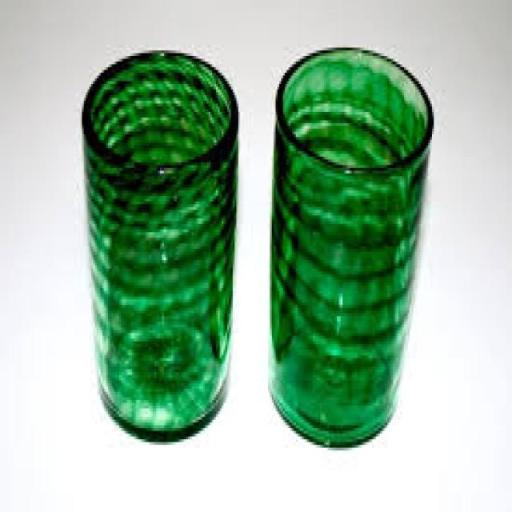glass: (271, 51, 433, 449), (81, 52, 237, 440)
